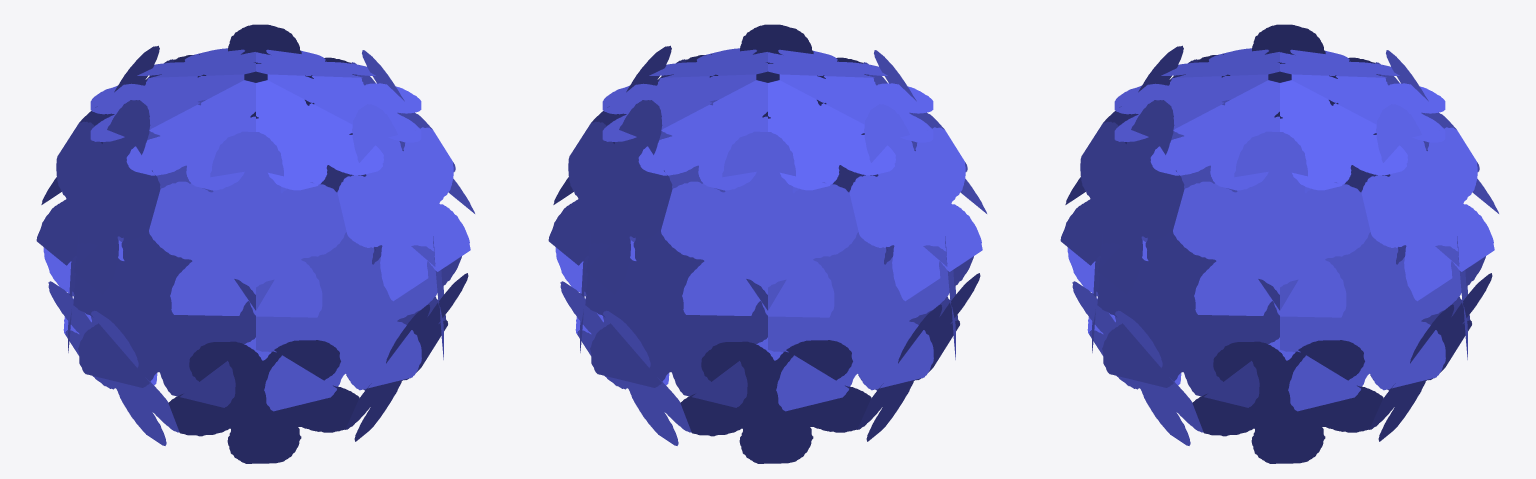
The model's file is Hydrangea_p.fbx.
3 views of the same model, side by side, from view 1: azimuth 30°, elevation 25°; view 2: azimuth 150°, elevation 25°; view 3: azimuth 270°, elevation 25° (orthographic).
Parts seen in each view (by area): view 1: pSphere11; view 2: pSphere11; view 3: pSphere11.
Part boxes in pixels (x1,y1,x2,y2): pSphere11: (36,24,474,463); pSphere11: (548,24,986,463); pSphere11: (1060,24,1498,463).
Bounding box in the file's own units: 0.3926 × 0.3459 × 0.4367.
